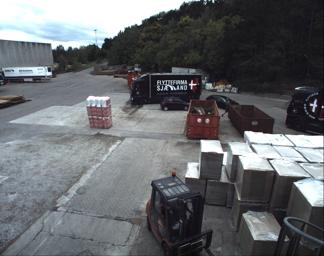rockwool_batts: (86, 95, 112, 127)
